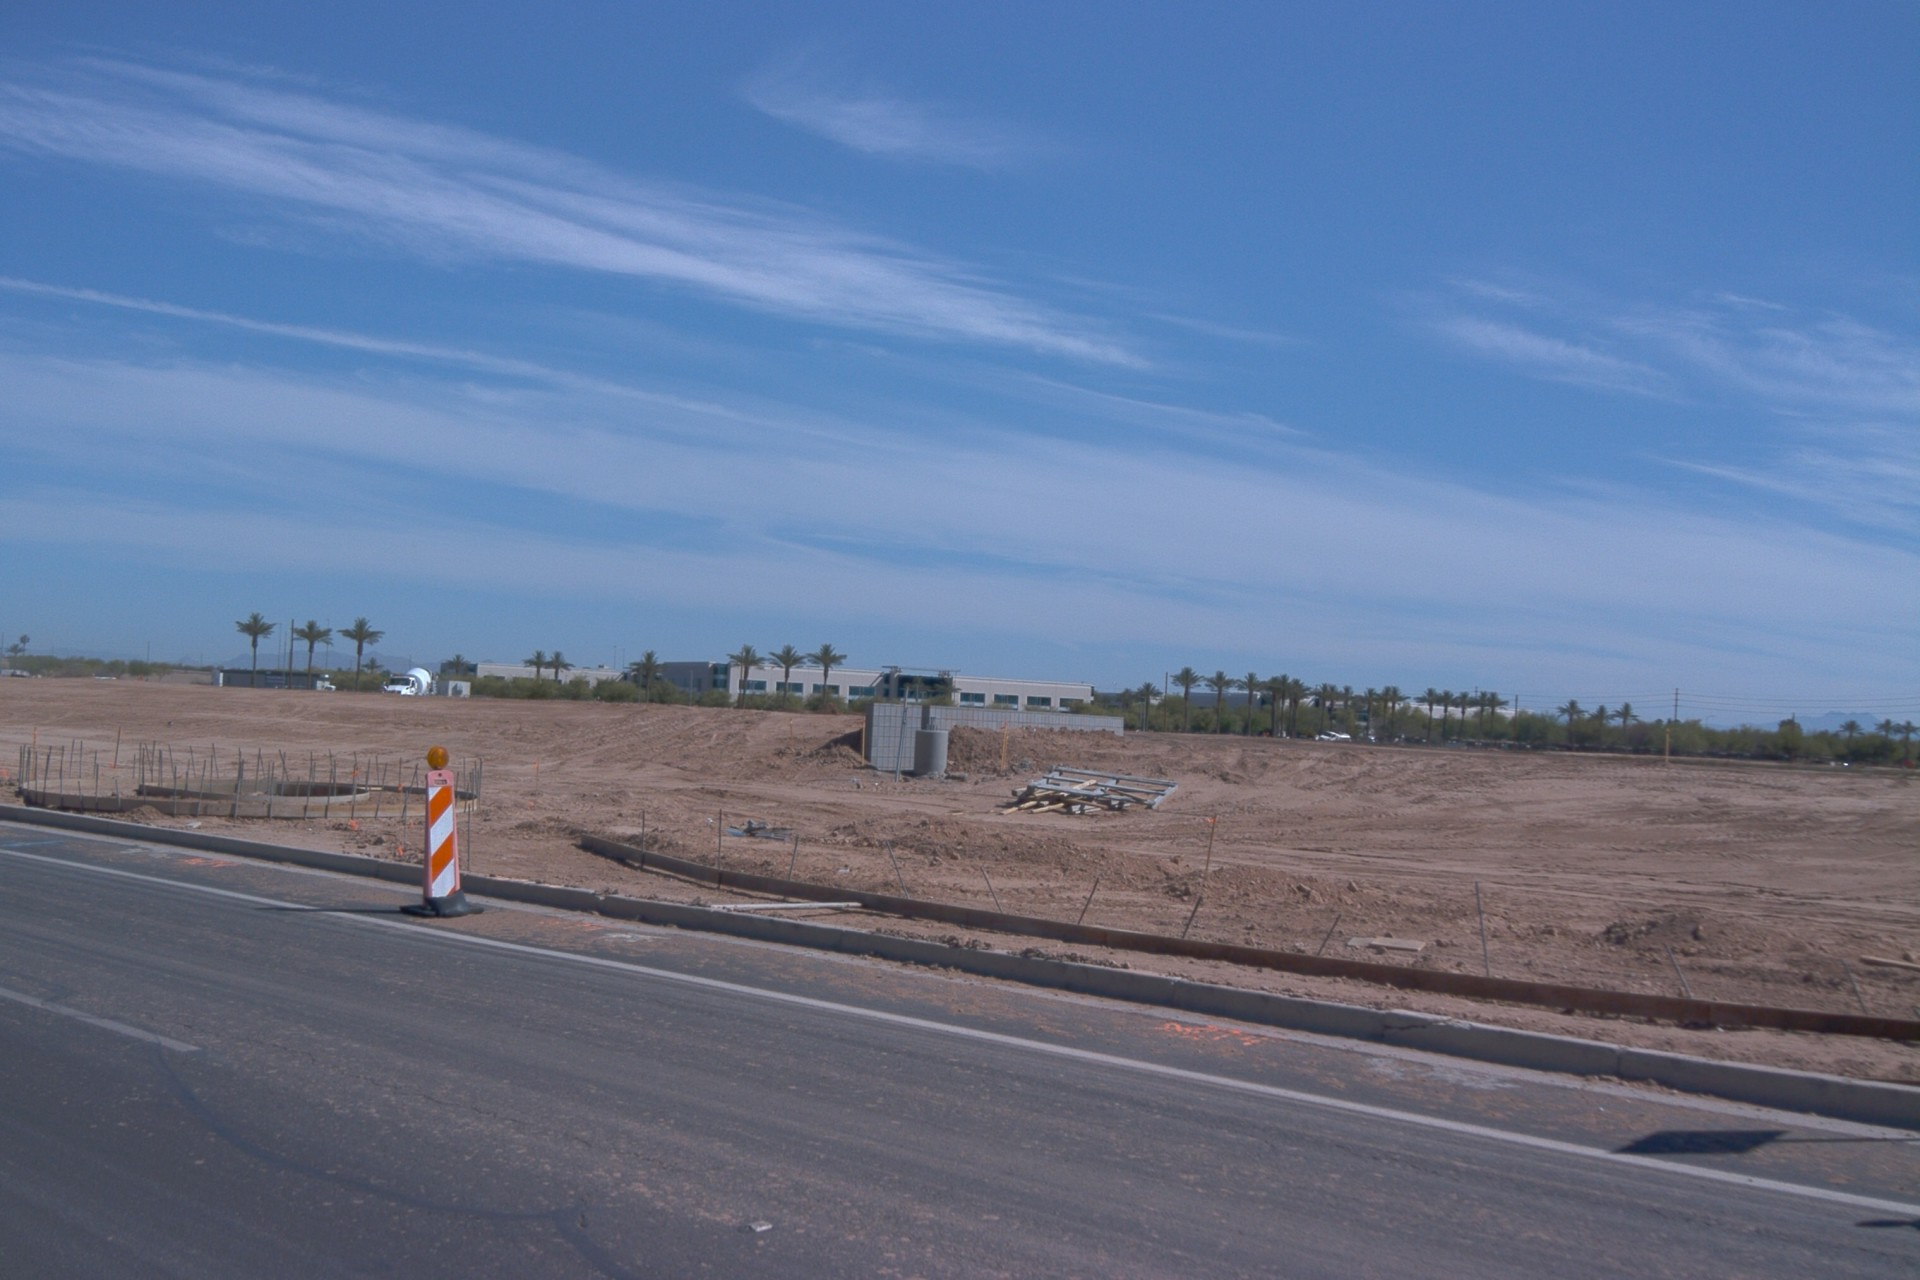TYPE_VEHICLE: (376, 666, 433, 699), (376, 666, 433, 699), (376, 666, 433, 699), (376, 666, 433, 699), (93, 676, 126, 684), (93, 676, 126, 684), (93, 676, 126, 684), (93, 676, 126, 684)
